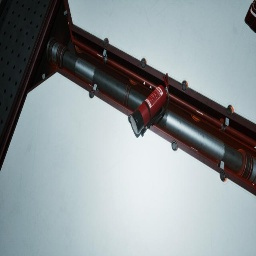FireExtinguisher ]: (131, 73, 170, 135)
FirstAidBox ,: (245, 0, 256, 32)
